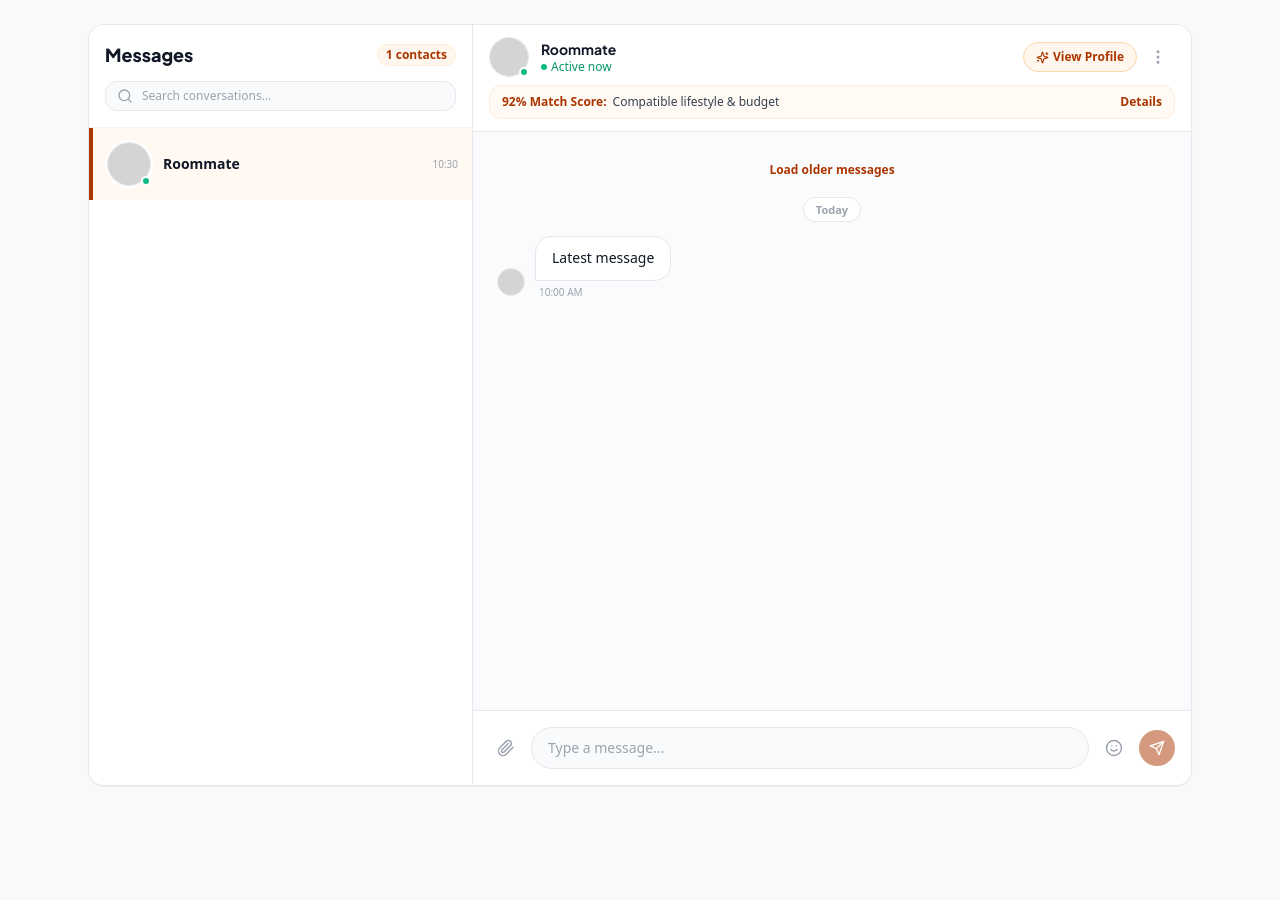
Scenario: Chat message handling › loads the next page and does not duplicate messages already loaded
Expected: the text "Latest message" is shown, [535,236,671,281]
Click the button "Load older messages" at (832, 170), box [769,162,895,178]
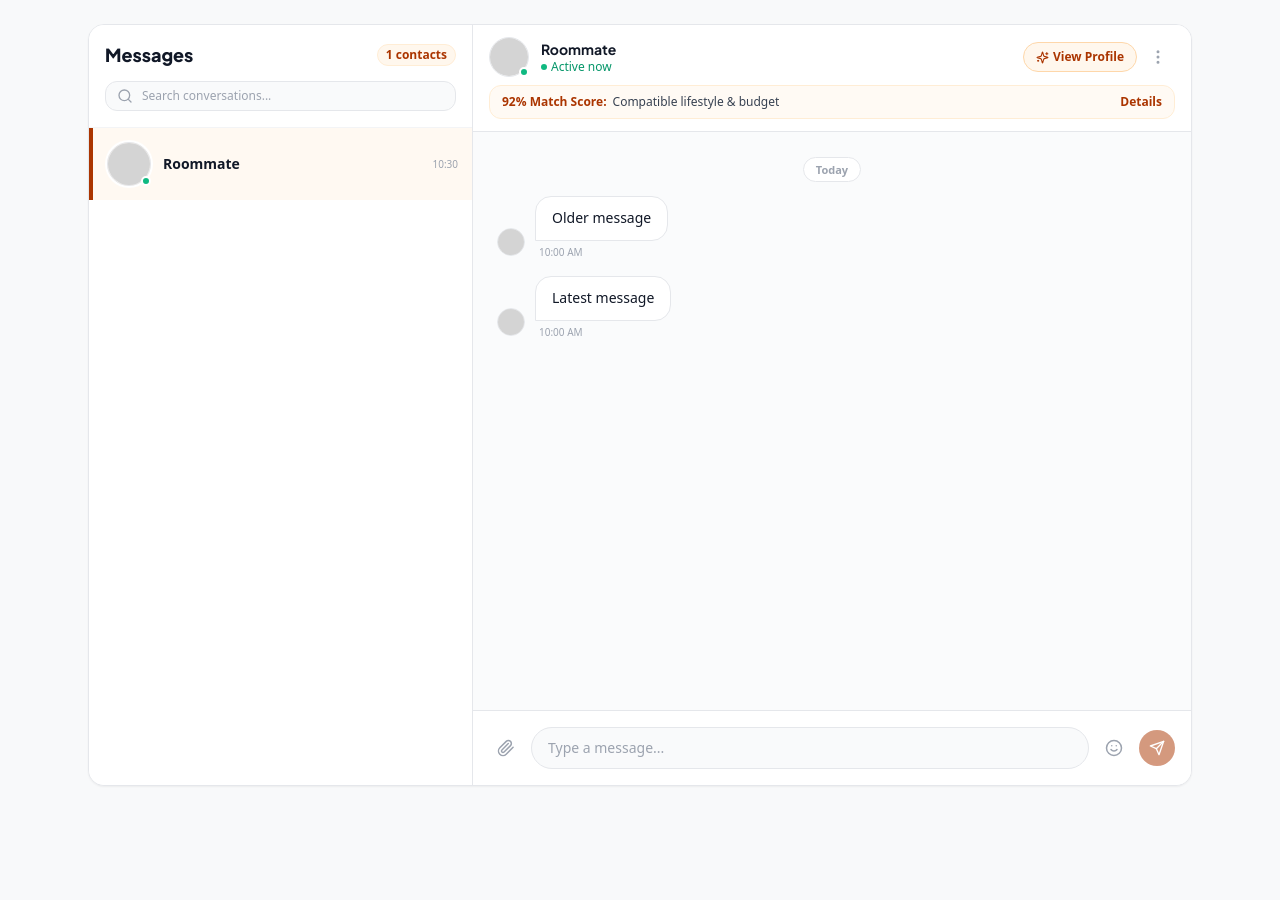
Expected: the text "Older message" is shown, [535,196,668,241]
Expected: the text "Latest message" is shown once, [535,276,671,321]
